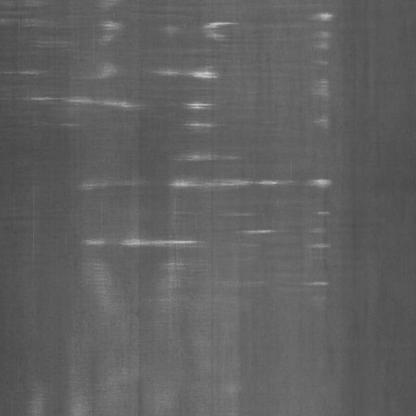waist_folding: (58, 38, 344, 313)
